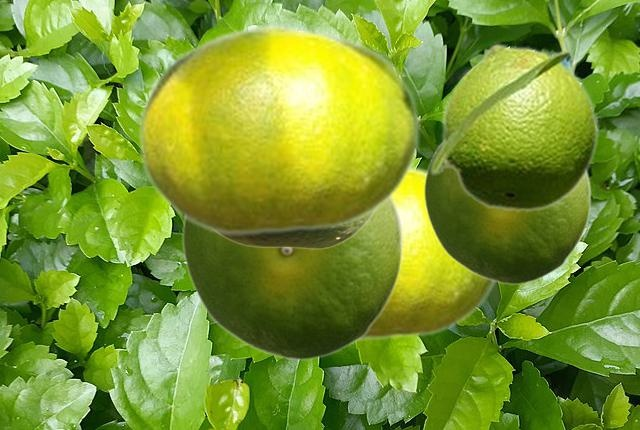dalandan: (137, 23, 419, 236), (181, 199, 402, 360), (428, 42, 599, 212), (358, 164, 499, 342), (423, 143, 590, 284), (221, 213, 374, 248)
